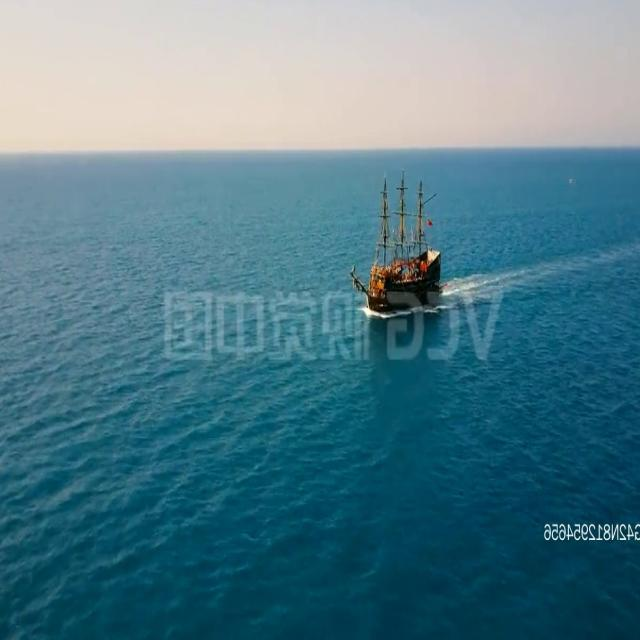sailboat: (347, 178, 447, 321)
